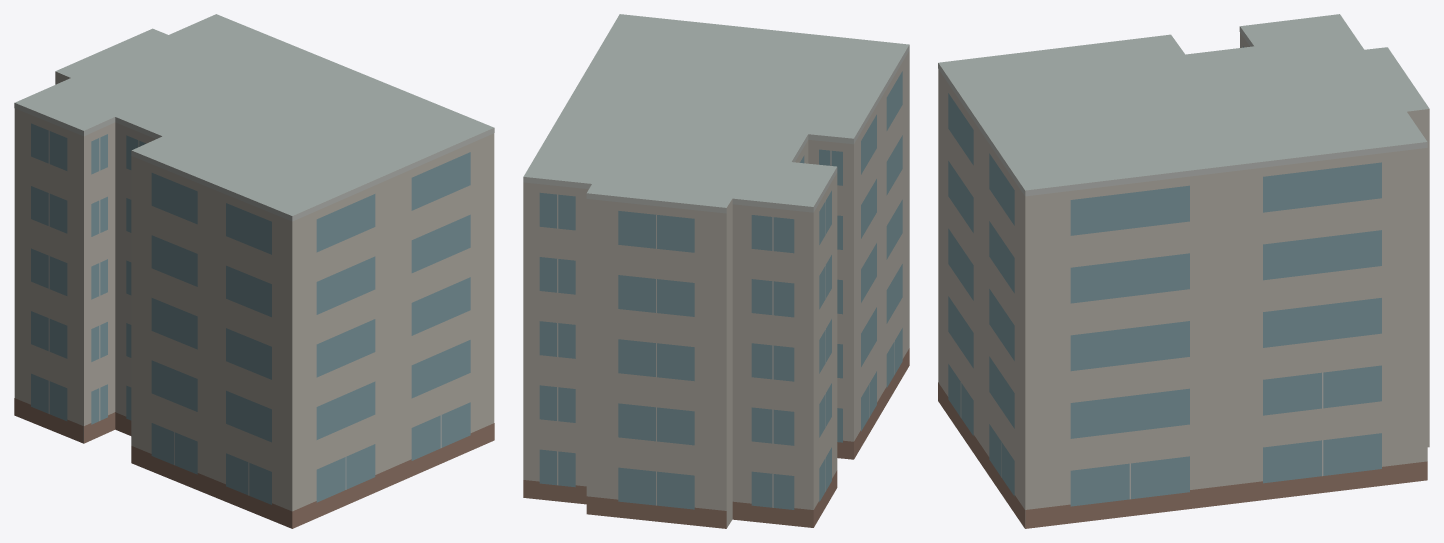
Rendered from survey-upis-32611438.glb.
The picture shows the model from 3 angles, left to right: view 1: azimuth 30°, elevation 25°; view 2: azimuth 150°, elevation 25°; view 3: azimuth 270°, elevation 25°; orthographic projection. The views are drawn at different scales.
Parts seen in each view (by area): view 1: survey-upis-32611438.tmp; view 2: survey-upis-32611438.tmp; view 3: survey-upis-32611438.tmp.
Part boxes in pixels (left/top/right/bottom): survey-upis-32611438.tmp: left=14, top=14, right=494, bottom=528; survey-upis-32611438.tmp: left=523, top=14, right=909, bottom=528; survey-upis-32611438.tmp: left=938, top=14, right=1429, bottom=528.
Size of the model in its own units: 15.67 by 14 by 18.44.
